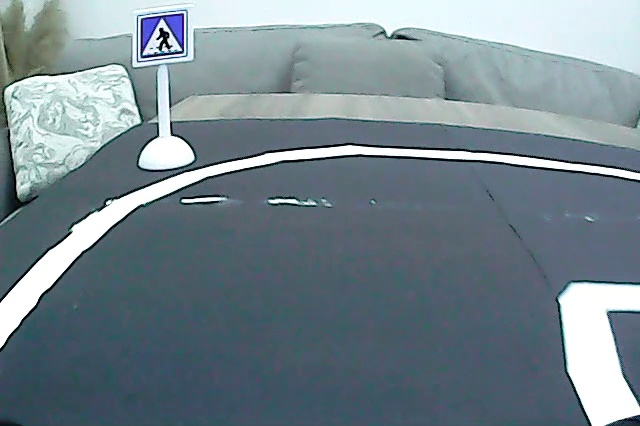pedestrian crossing: (136, 11, 189, 60)
